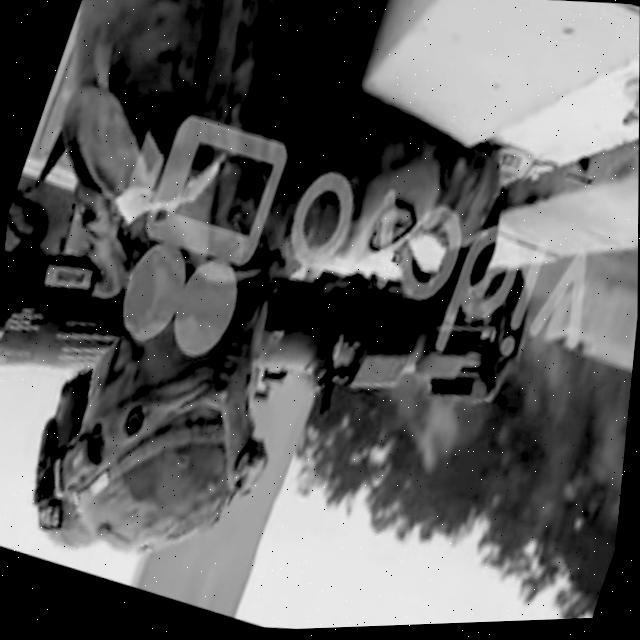rocket: (0, 106, 552, 527)
